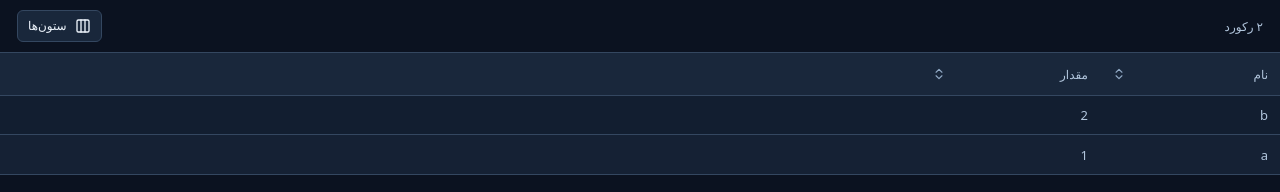
it: Virtualized accessible DataGrid › exposes sorting via column headers with aria-sort
Click the button "مقدار" at (1010, 74), box [932,56,1088,92]
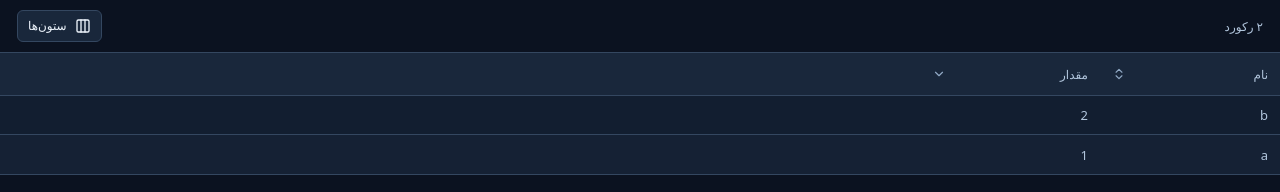
Now the column heading "مقدار" has attribute aria-sort="descending", box [920,53,1100,95]
Click the button "مقدار" at (1010, 74), box [932,56,1088,92]
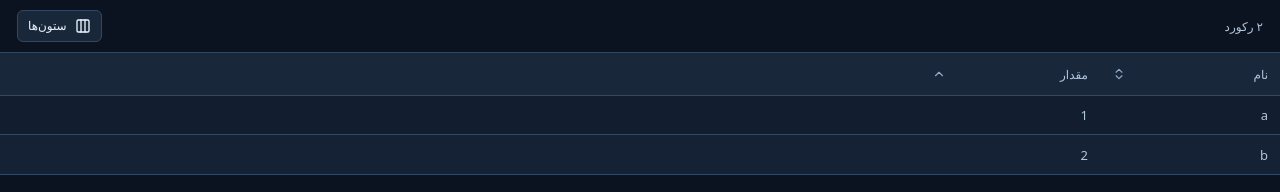
Now the column heading "مقدار" has attribute aria-sort="ascending", box [920,53,1100,95]
